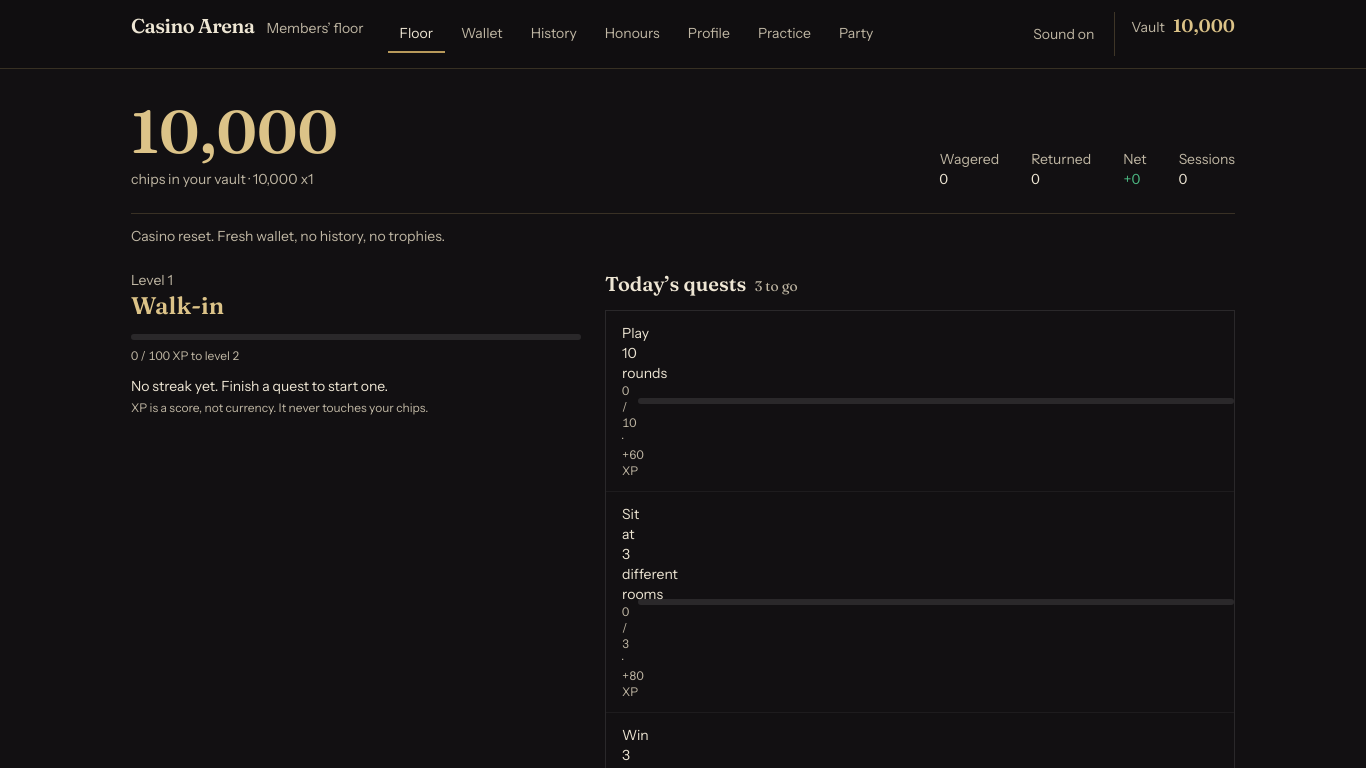
Scenario: the casino floor › opens with a real wallet and no fabricated history
Click the button "History". click: (554, 34)
box: [519,15,589,53]
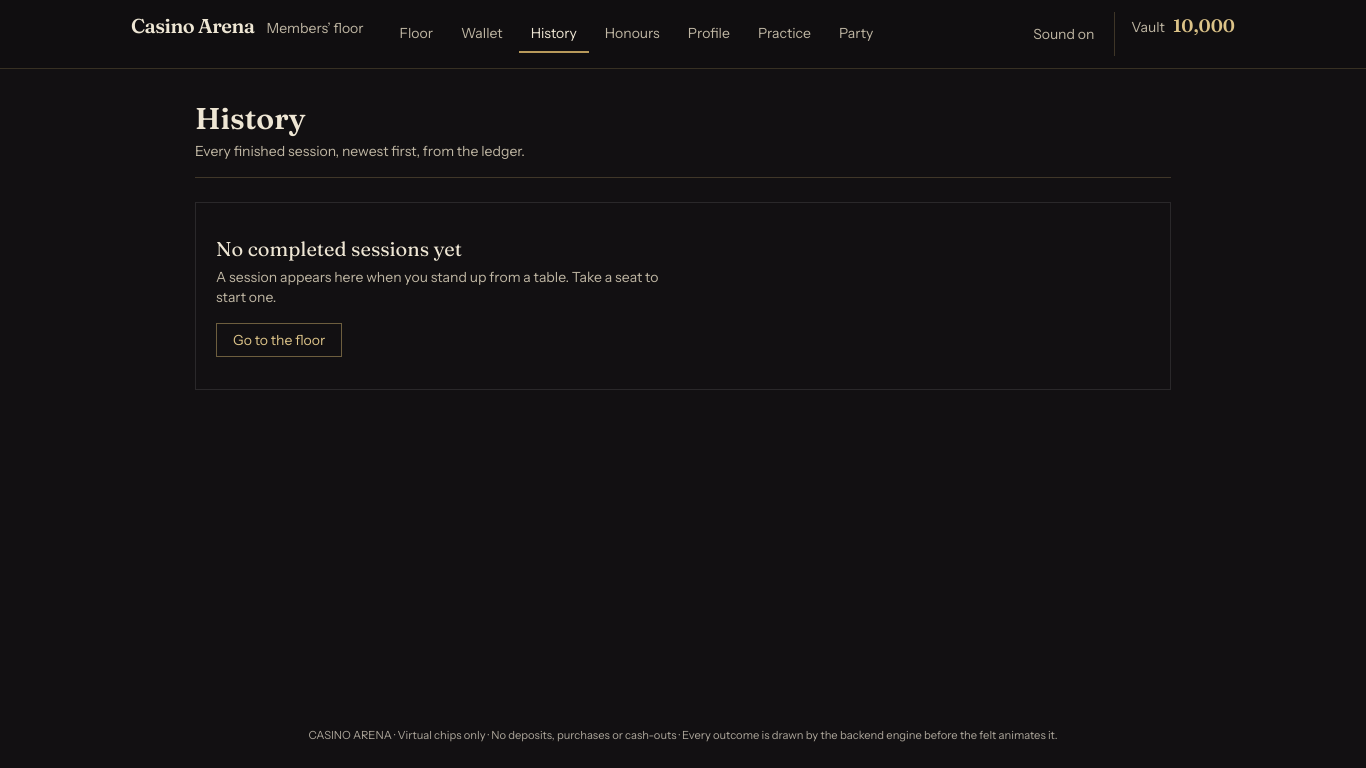
Expected: the text "No completed sessions yet" is shown, [216,236,462,261]
